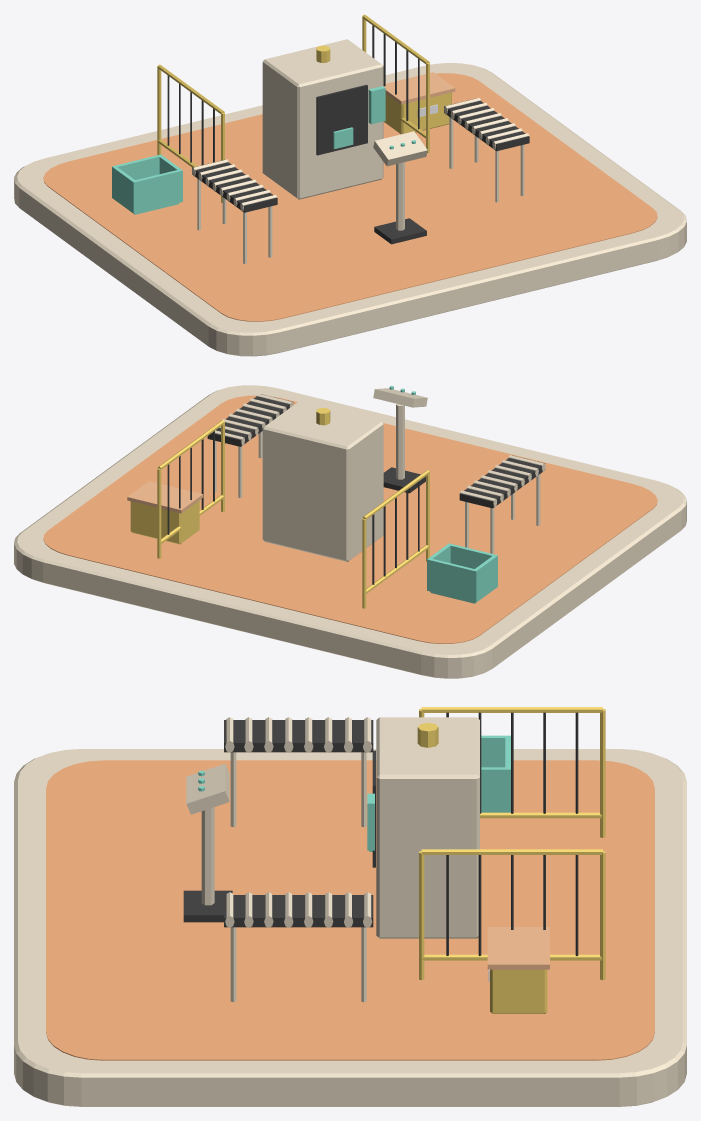
Rendered from room.fbx.
3 views of the same model, one above another, from view 1: azimuth 30°, elevation 25°; view 2: azimuth 150°, elevation 25°; view 3: azimuth 270°, elevation 25° (orthographic). The views are drawn at different scales.
Parts seen in each view (by area): view 1: COM-02 Floor Surface, COM-01 Rounded Base Direct, Machine, Cabinet window, Box, Belt.001, Belt, Bin end, Control console, Lid, Bin side, Foot (+3 smaller); view 2: COM-02 Floor Surface, COM-01 Rounded Base Direct, Machine, Box, Belt, Bin end.001, Belt.001, Lid, Bin side, Bin end, Control console, Stand (+3 smaller); view 3: COM-02 Floor Surface, COM-01 Rounded Base Direct, Machine, Belt.001, Belt, Lid, Box, Control console, Bin side.001, Stand, Foot, Rail.003 (+7 smaller).
Boxes of the visible parts, box(x1,y1,x2,y2) form: COM-02 Floor Surface: box(43, 73, 657, 321); COM-01 Rounded Base Direct: box(14, 63, 686, 356); Machine: box(262, 39, 383, 199); Cabinet window: box(316, 84, 367, 155); Box: box(384, 92, 451, 134); Belt.001: box(444, 98, 529, 151); Belt: box(192, 160, 277, 212); Bin end: box(134, 170, 180, 213); Control console: box(373, 131, 427, 166); Lid: box(383, 72, 455, 104); Bin side: box(112, 165, 136, 213); Foot: box(374, 218, 426, 244); COM-02 Floor Surface: box(43, 395, 657, 643); COM-01 Rounded Base Direct: box(14, 385, 686, 678); Machine: box(262, 401, 383, 561); Box: box(130, 500, 199, 544); Belt: box(459, 455, 545, 508); Bin end.001: box(429, 559, 474, 601); Belt.001: box(207, 394, 293, 446); Lid: box(127, 481, 203, 513); Bin side: box(473, 555, 497, 602); Bin end: box(450, 544, 494, 568); Control console: box(373, 388, 427, 407); Stand: box(396, 404, 404, 479); COM-02 Floor Surface: box(46, 760, 654, 1060); COM-01 Rounded Base Direct: box(14, 749, 686, 1106); Machine: box(376, 717, 479, 938); Belt.001: box(224, 895, 373, 927); Belt: box(224, 720, 373, 752); Lid: box(487, 927, 549, 969); Box: box(490, 969, 547, 1013); Control console: box(186, 764, 229, 814); Bin side.001: box(481, 767, 510, 812); Stand: box(201, 807, 214, 905); Foot: box(183, 890, 232, 922); Rail.003: box(421, 849, 602, 854).
Size of the model in its own units: 600 by 186 by 520.
